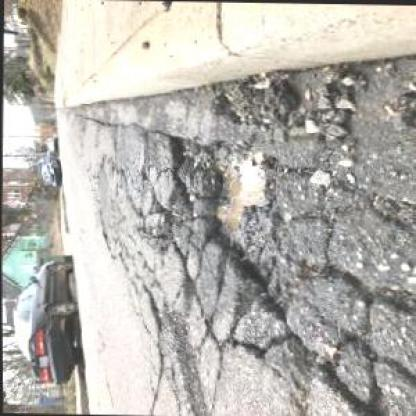pothole: (162, 132, 298, 320)
